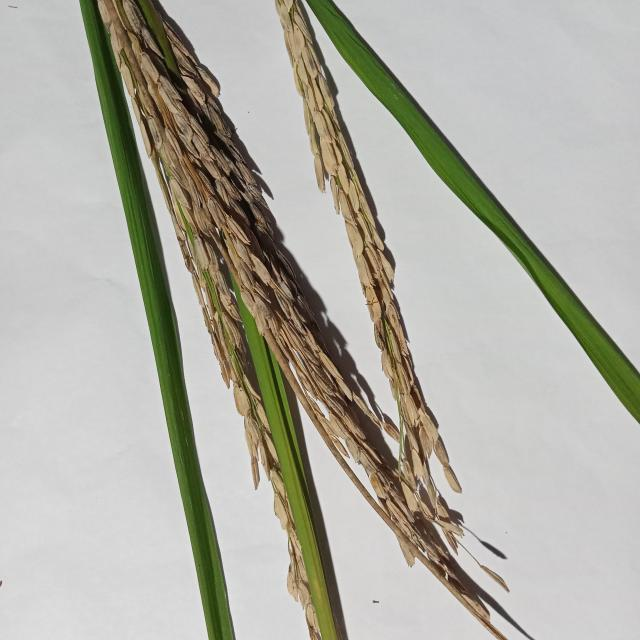Neck_Blast: (85, 0, 467, 619), (277, 0, 452, 506)
